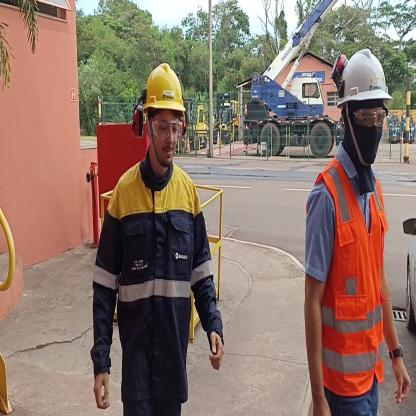Balaclava: (340, 100, 386, 181)
C_eletrica: (93, 162, 225, 401)
Capacete: (330, 39, 394, 103), (134, 57, 189, 114)
colete: (304, 156, 398, 402)
